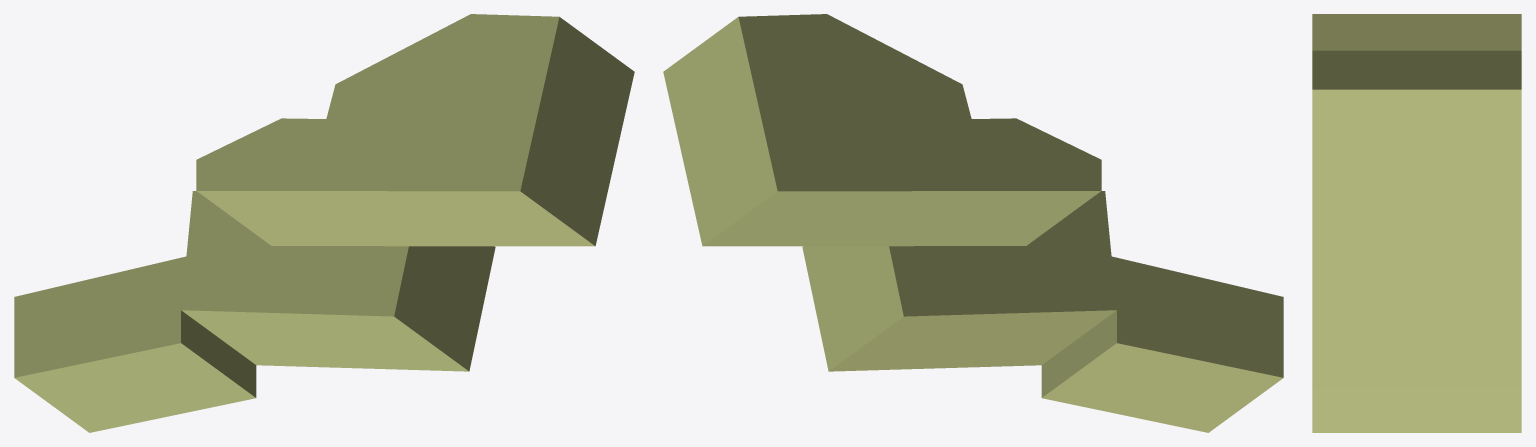
3 renders of one model, left to right at view 1: azimuth 30°, elevation 25°; view 2: azimuth 150°, elevation 25°; view 3: azimuth 270°, elevation 25°, orthographic. The views are drawn at different scales.
Parts seen in each view (by area): view 1: 0_1_1_3_3_1_3_3_0; view 2: 0_1_1_3_3_1_3_3_0; view 3: 0_1_1_3_3_1_3_3_0.
Part boxes in pixels (bbox=[...]): 0_1_1_3_3_1_3_3_0: bbox=[14, 14, 634, 432]; 0_1_1_3_3_1_3_3_0: bbox=[663, 14, 1283, 432]; 0_1_1_3_3_1_3_3_0: bbox=[1312, 14, 1521, 432].
Bounding box in the file's own units: 25.1 × 12.48 × 6.
